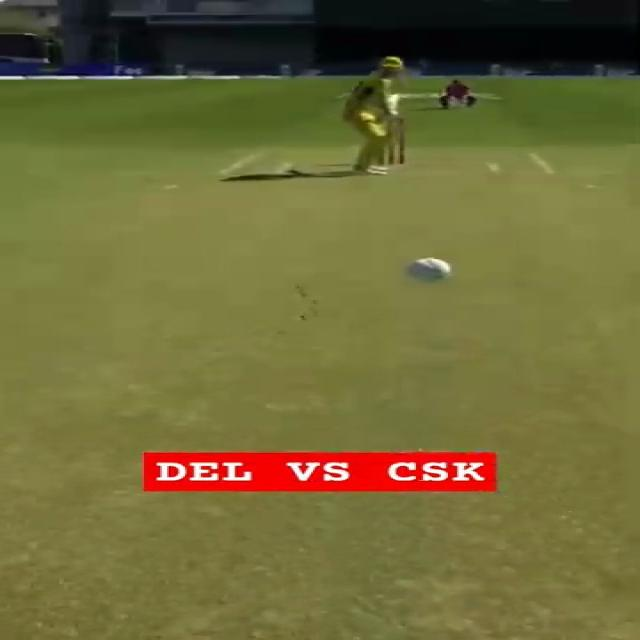ball: (405, 256, 453, 282)
